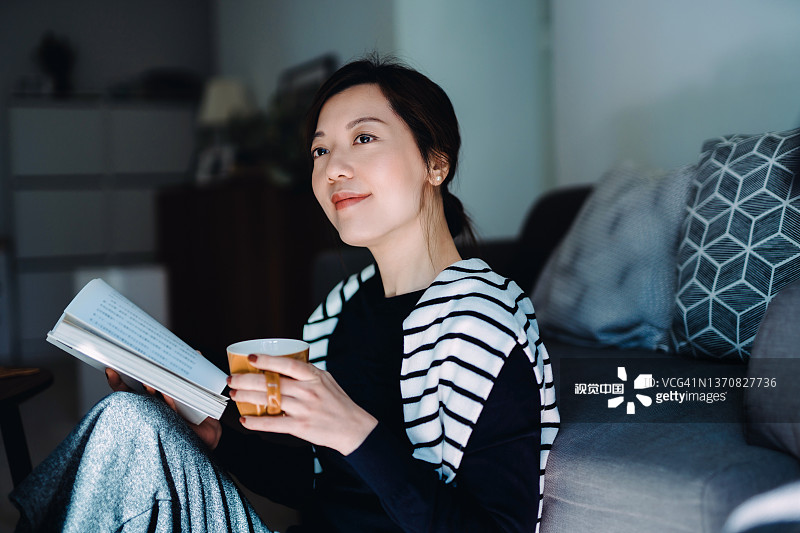no-phone: (221, 344, 384, 454)
